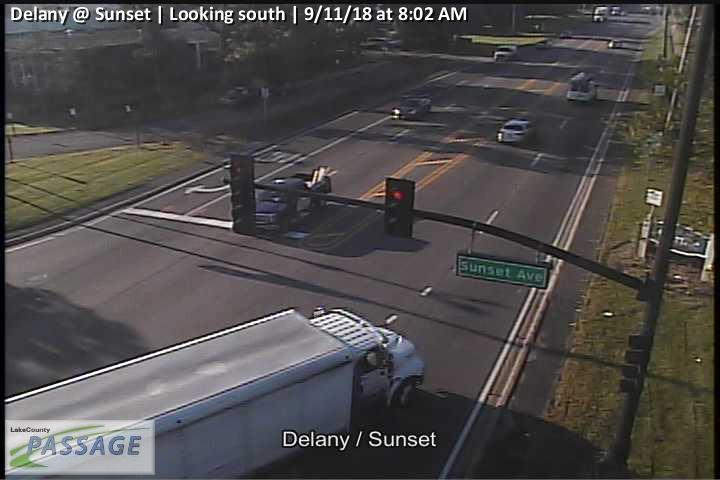Sedan: (388, 93, 432, 121), (494, 117, 536, 143), (493, 45, 519, 61)
Truck: (3, 305, 423, 476), (233, 168, 332, 237), (564, 73, 601, 101)
